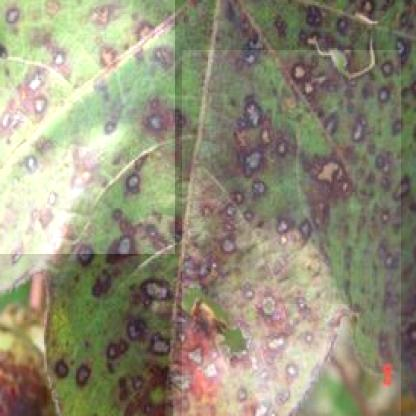black-spot: (182, 50, 401, 416), (0, 0, 175, 254)
